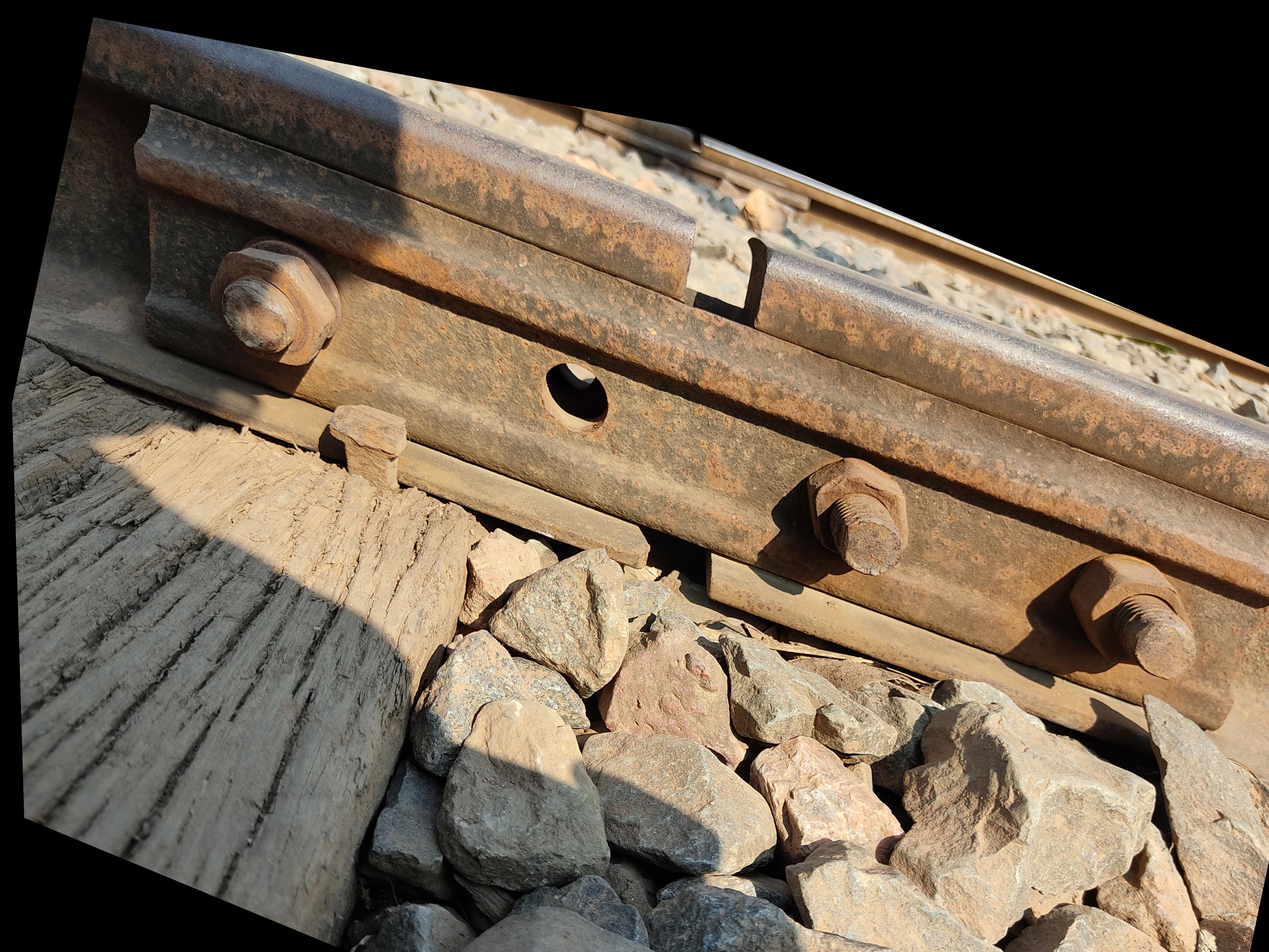person: (706, 104, 962, 274), (698, 345, 877, 514)
